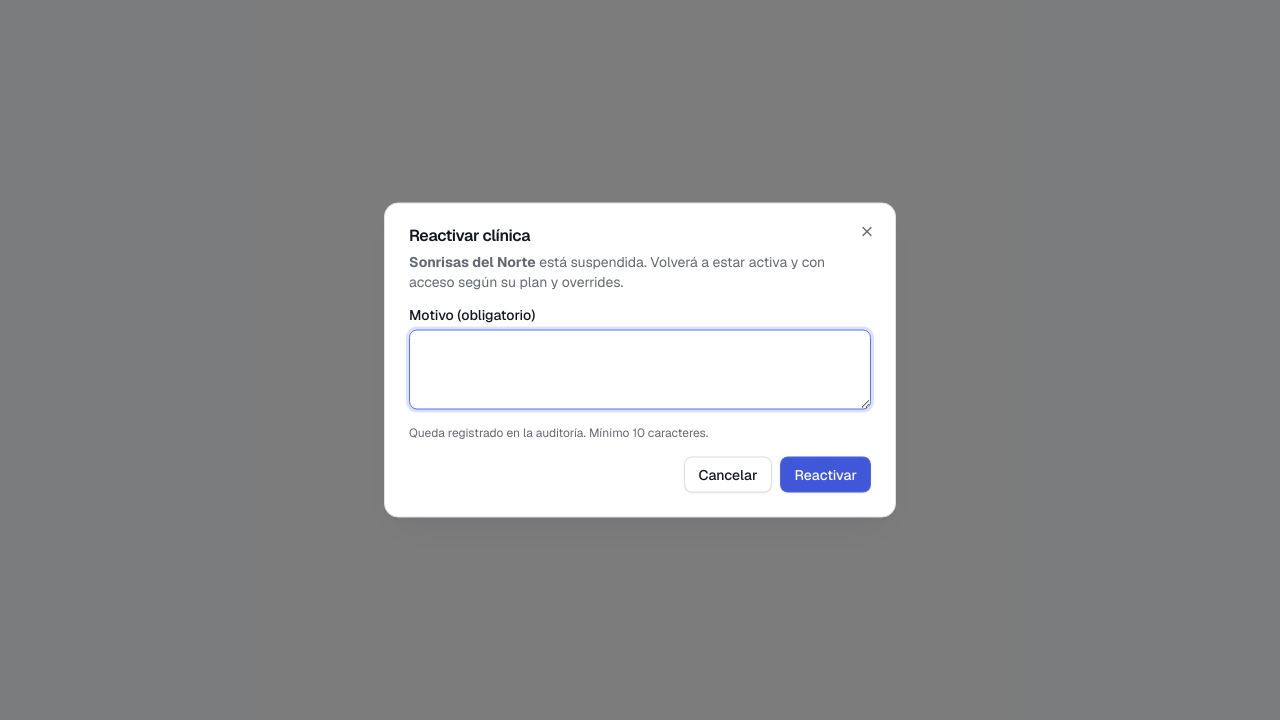
Test: ReactivateClinicDialog › exige motivo
This screenshot has width=1280, height=720.
Click the button "Reactivar".
click(826, 474)  # box [780,456,871,492]
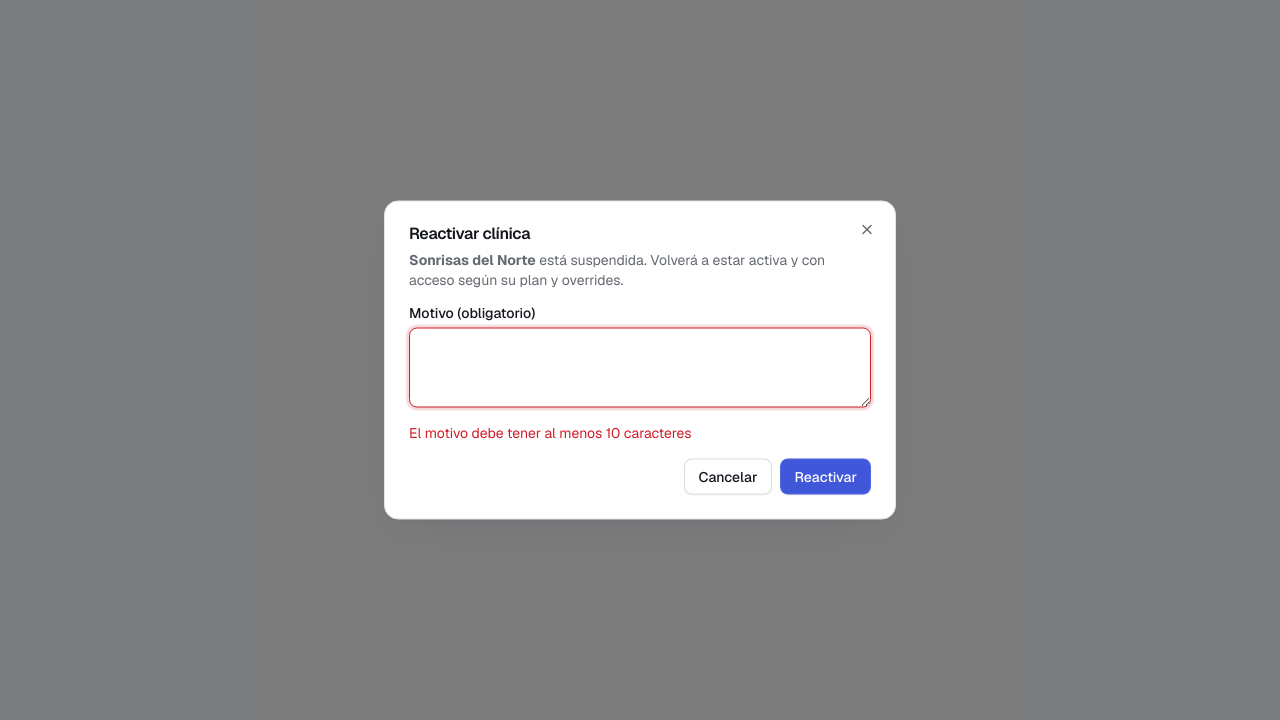
expect the text "El motivo debe tener al menos 10 caracteres" is shown: met, box [409,424,692,442]
